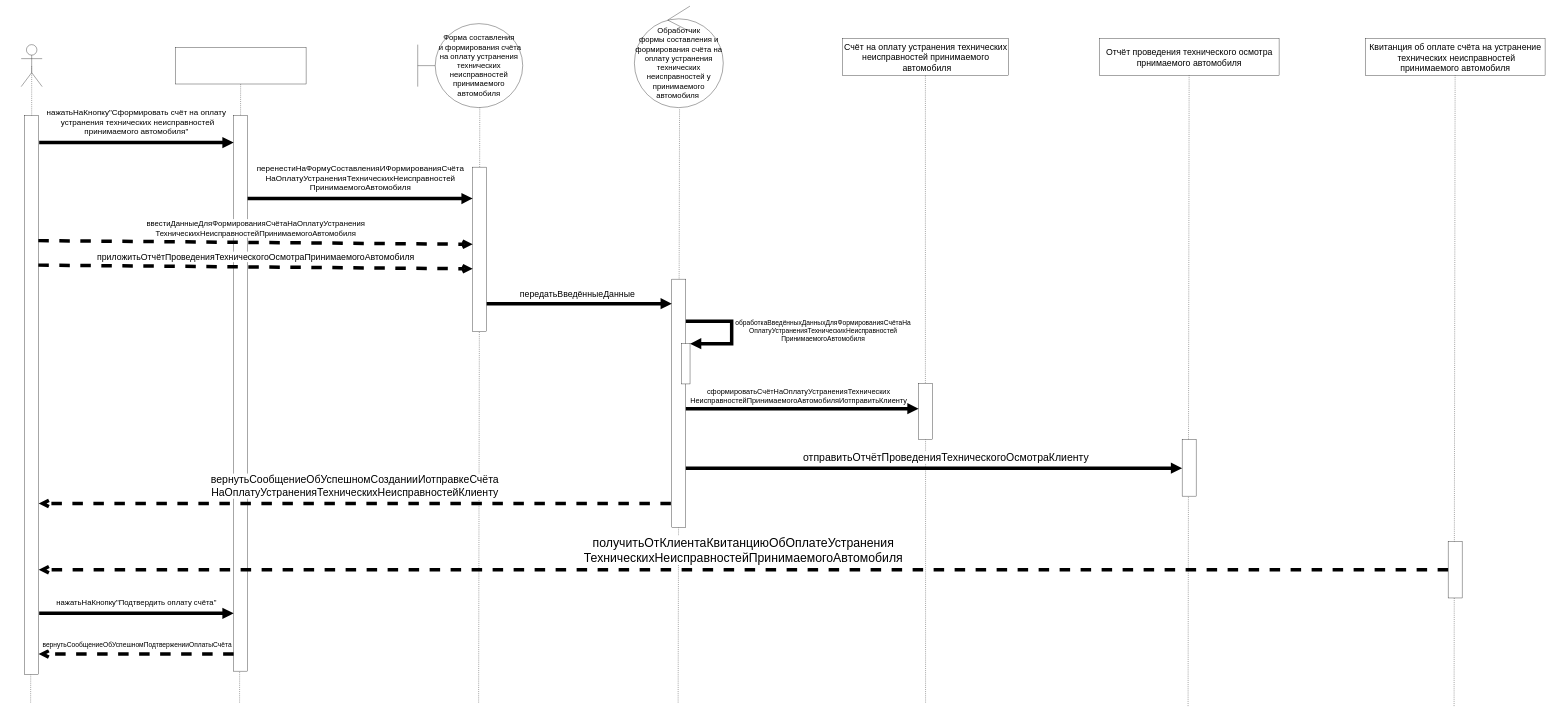
This 1551x713 diagram has some shape labels left out. Each missing label, with the centre of its shape:
"Заявка на закрытие текущего проката/аренды" belongs at point 240,65.
"Менеджер" belongs at point 31,65.
